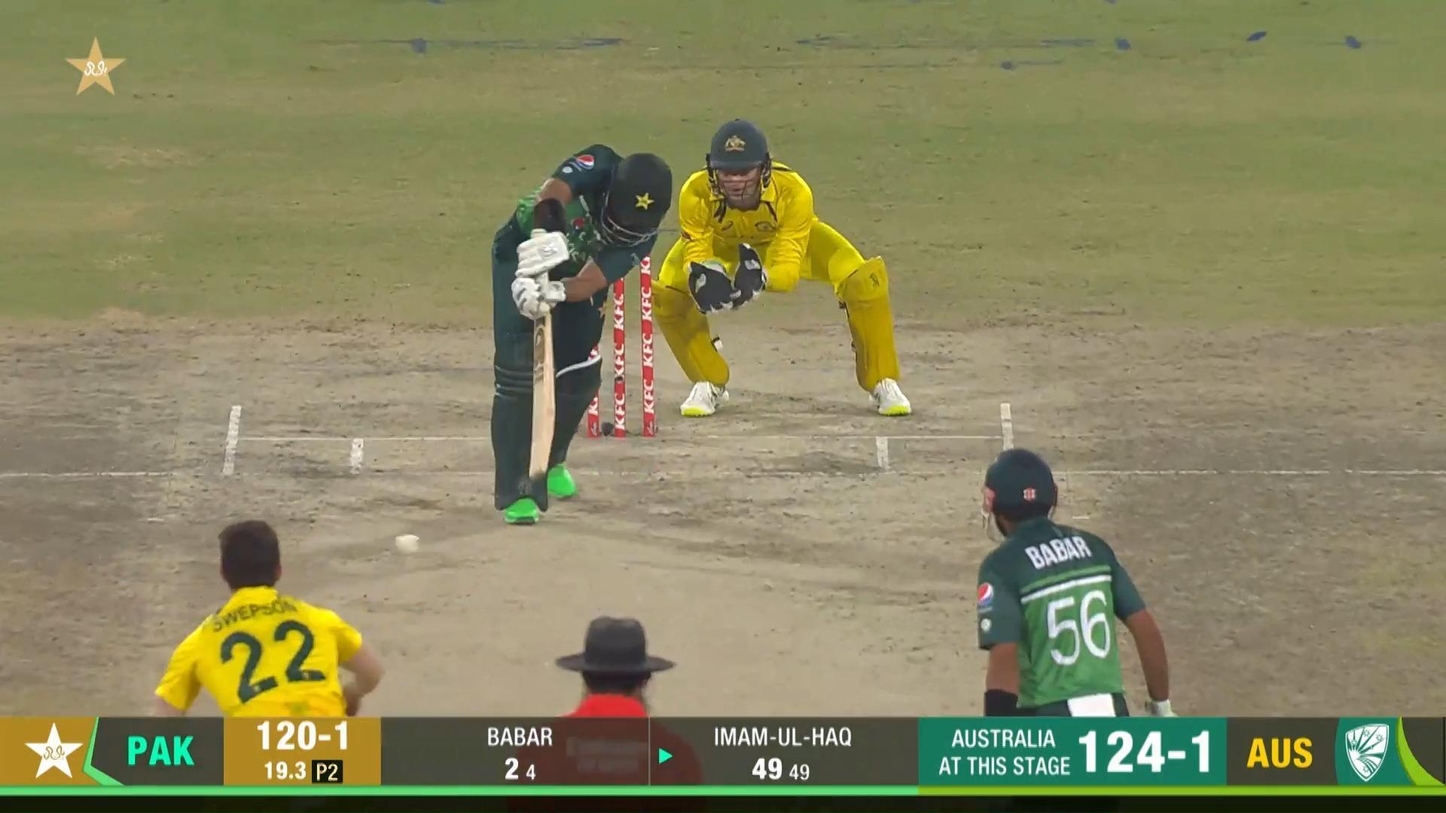BM 1: (491, 145, 674, 526)
BO: (151, 518, 382, 722)
